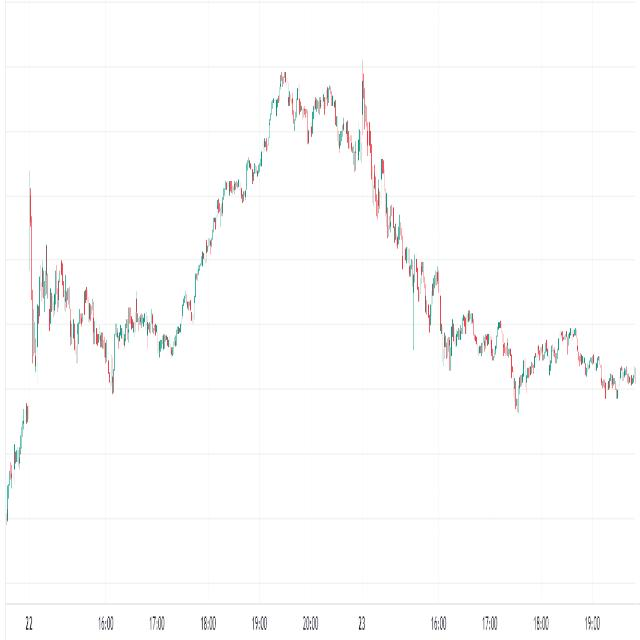Descending-Triangle: (17, 179, 245, 393)
Rounding-Top: (189, 61, 431, 324)
